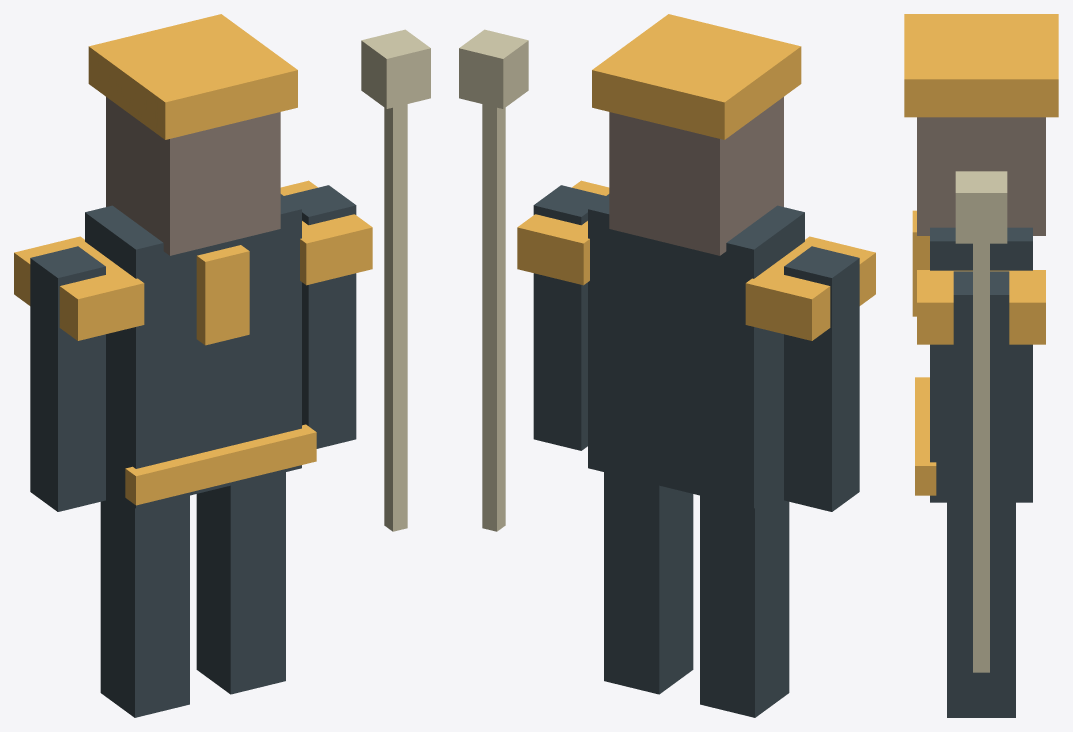
The model's file is 12_lio_skyharrow_tactician_near_emergency.glb.
3 views of the same model, side by side, from view 1: azimuth 30°, elevation 25°; view 2: azimuth 150°, elevation 25°; view 3: azimuth 270°, elevation 25° (orthographic).
Parts seen in each view (by area): view 1: Lio Skyharrow, Tactician near Emergency; view 2: Lio Skyharrow, Tactician near Emergency; view 3: Lio Skyharrow, Tactician near Emergency.
Part boxes in pixels (x1,y1,x2,y2): Lio Skyharrow, Tactician near Emergency: (14, 14, 430, 717); Lio Skyharrow, Tactician near Emergency: (459, 14, 875, 717); Lio Skyharrow, Tactician near Emergency: (904, 14, 1058, 717).
Bounding box in the file's own units: 0.9883 × 1.59 × 0.3505.
